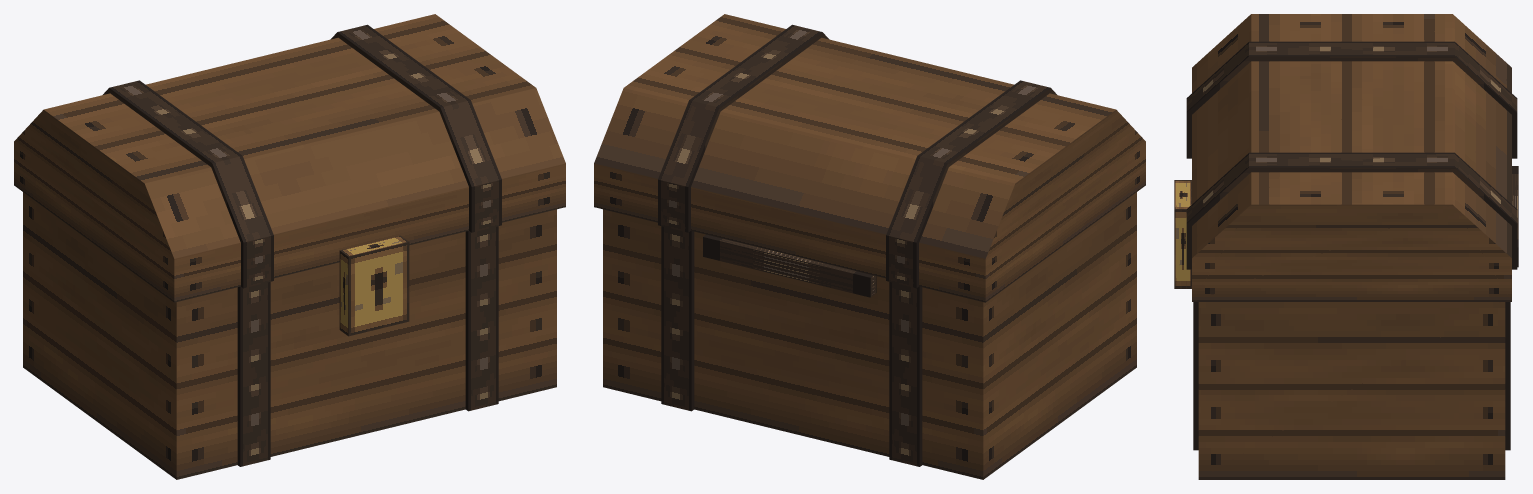
Rendered from chest_beggar.glb.
3 views of the same model, side by side, from view 1: azimuth 30°, elevation 25°; view 2: azimuth 150°, elevation 25°; view 3: azimuth 270°, elevation 25° (orthographic).
Parts seen in each view (by area): view 1: lid, base, lock; view 2: lid, base; view 3: lid, base, lock.
Boxes of the visible parts, x1,y1,x2,y2 form: lid: (14,14,565,302); base: (23,192,556,479); lock: (339,235,409,336); lid: (594,14,1145,302); base: (603,192,1136,479); lid: (1186,14,1517,301); base: (1193,166,1518,479); lock: (1174,180,1191,288).
Size of the model in its own units: 1.03 by 0.712 by 0.785.
Materials: 1 (1 with a texture image).
